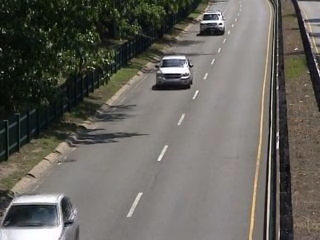car: (1, 188, 79, 240), (154, 51, 196, 88), (195, 8, 229, 37)
